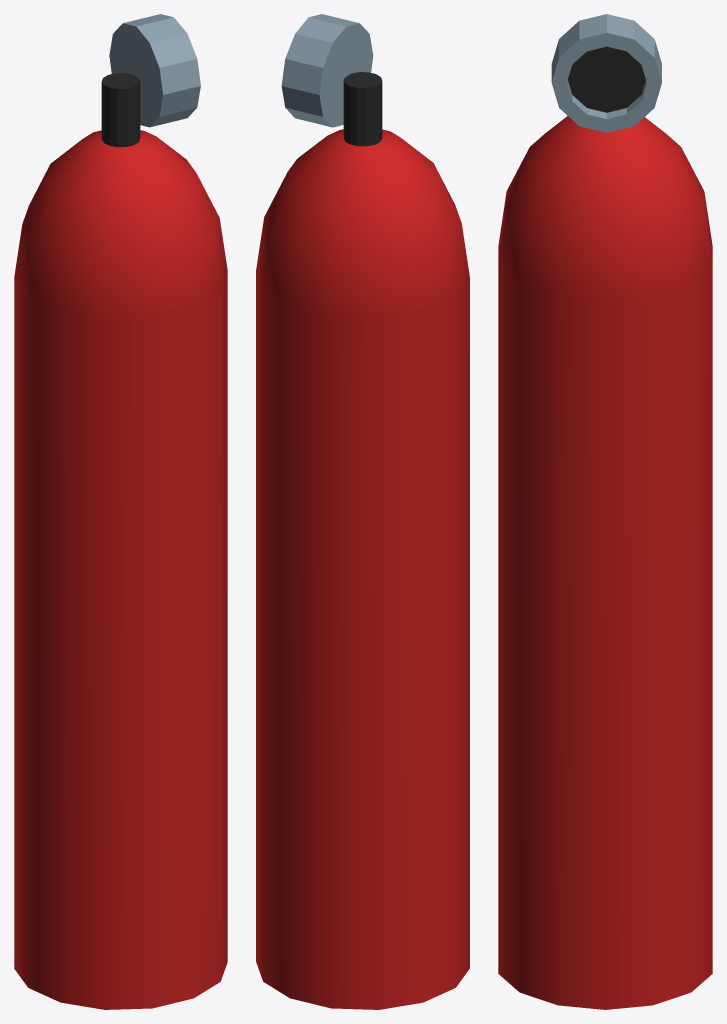
Rendered from gas_tank.fbx.
3 views of the same model, side by side, from view 1: azimuth 30°, elevation 25°; view 2: azimuth 150°, elevation 25°; view 3: azimuth 270°, elevation 25° (orthographic). The views are drawn at different scales.
Parts seen in each view (by area): view 1: pCylinder30; view 2: pCylinder30; view 3: pCylinder30.
Boxes of the visible parts, x1,y1,x2,y2 form: pCylinder30: (14,14,227,1009); pCylinder30: (256,14,469,1009); pCylinder30: (498,14,712,1009).
Bounding box in the file's own units: 0.3294 × 1.58 × 0.3211.
